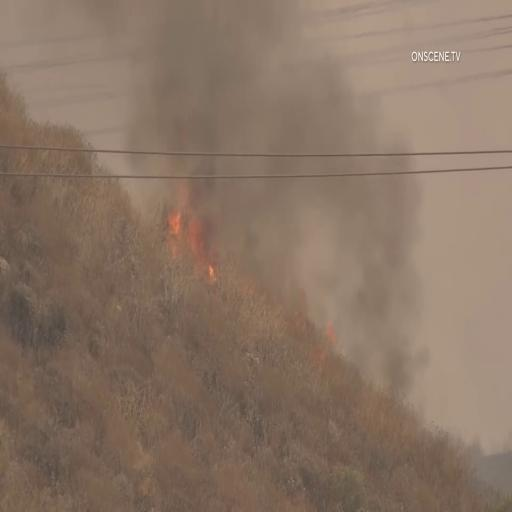smoke: (100, 0, 288, 193)
